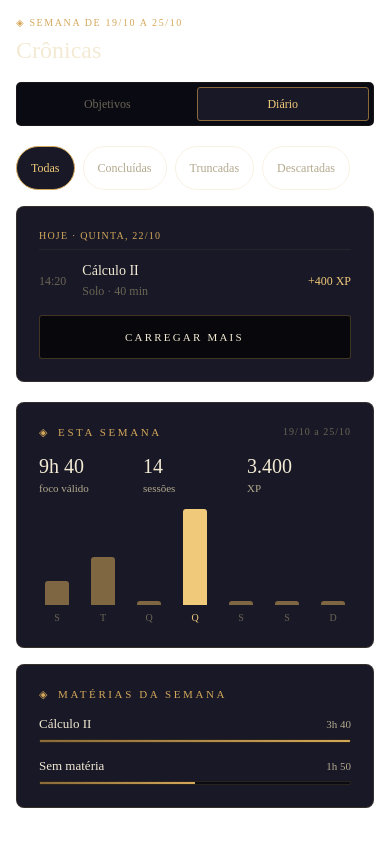
it: Crônicas › pages by cursor through several days
Click the button with test id "diary-more": (195, 337) x1=39 y1=315 x2=351 y2=359
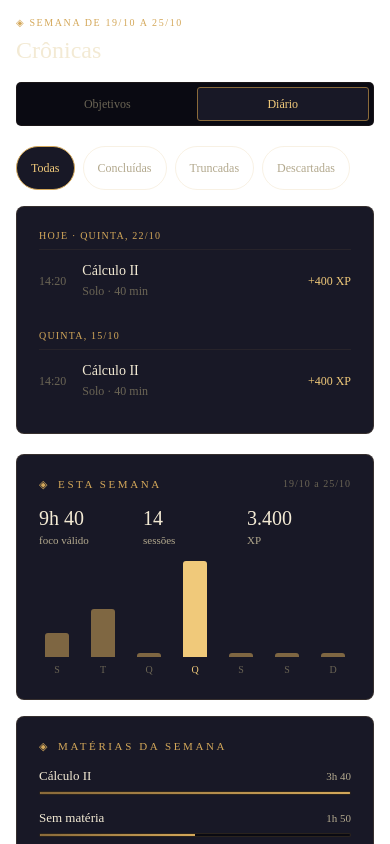
Now the element with test id "diary-item-b" is shown, box x1=39 y1=349 x2=351 y2=411
Now the element with test id "diary-day-2026-10-15" is shown, box x1=39 y1=315 x2=351 y2=411
Now the button with test id "diary-more" is gone
